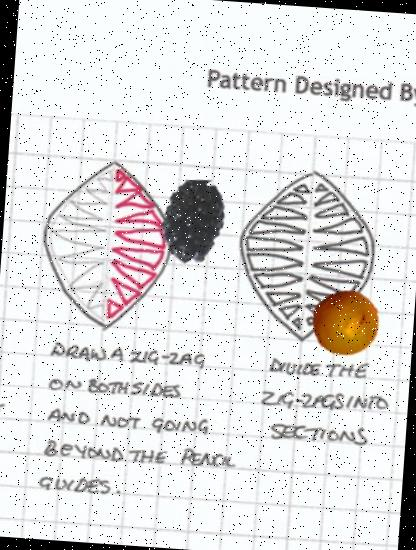Lemon: (310, 286, 382, 359)
Mulberry: (148, 177, 238, 267)
